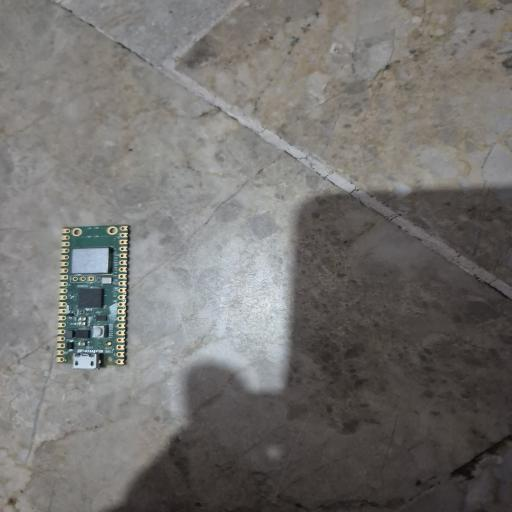raspberry-pi-pico-w: (56, 225, 130, 369)
